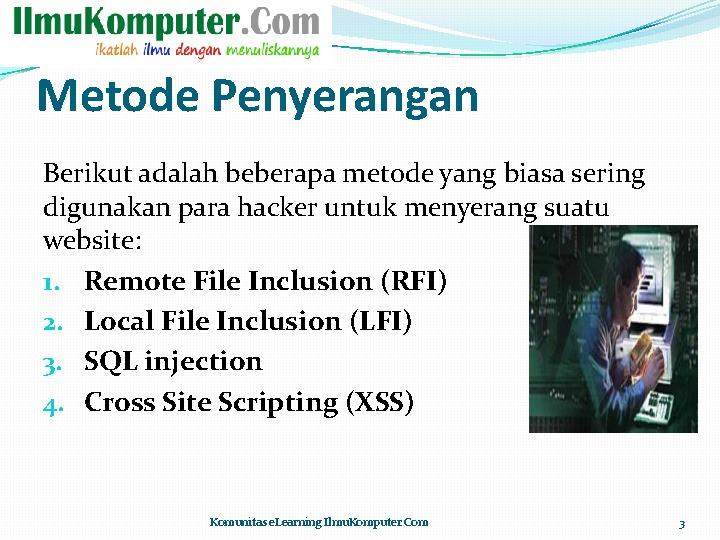paragraph: (31, 148, 692, 465)
subtitle: (34, 72, 484, 131)
title: (7, 0, 331, 67)
